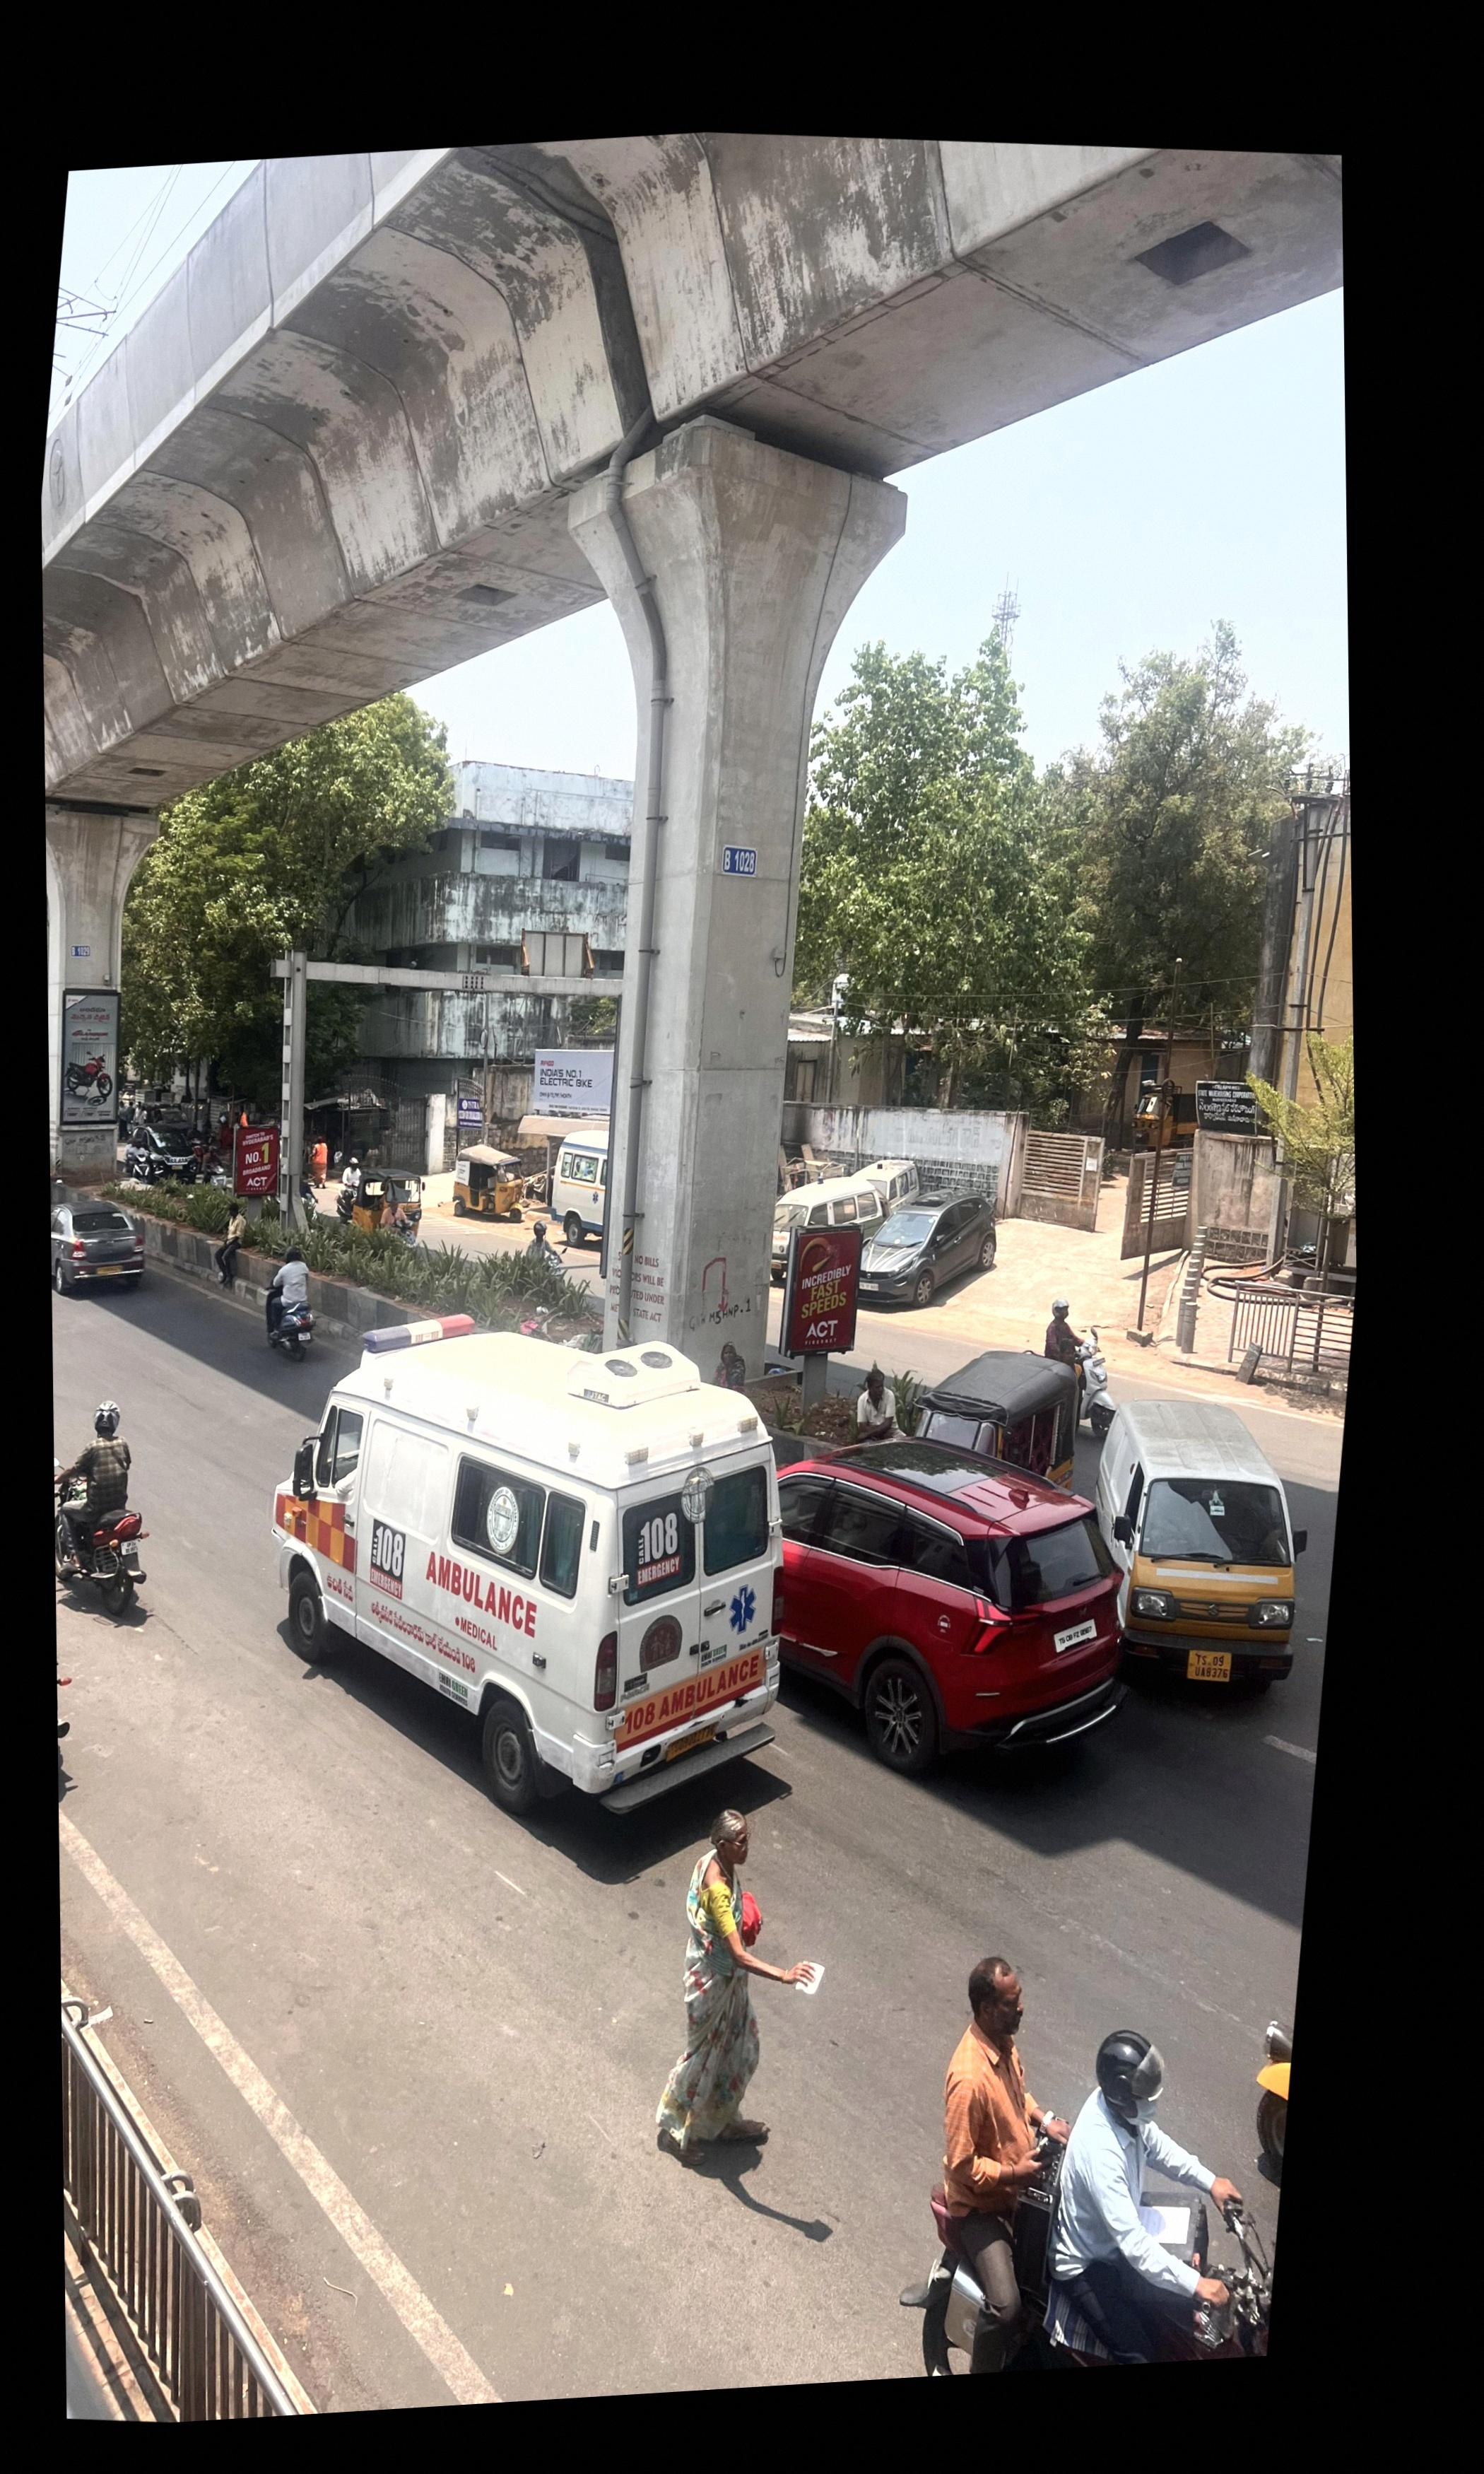ambulance: (269, 1306, 786, 1815)
